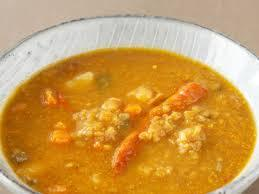Dhal Curry: (14, 47, 240, 189)
